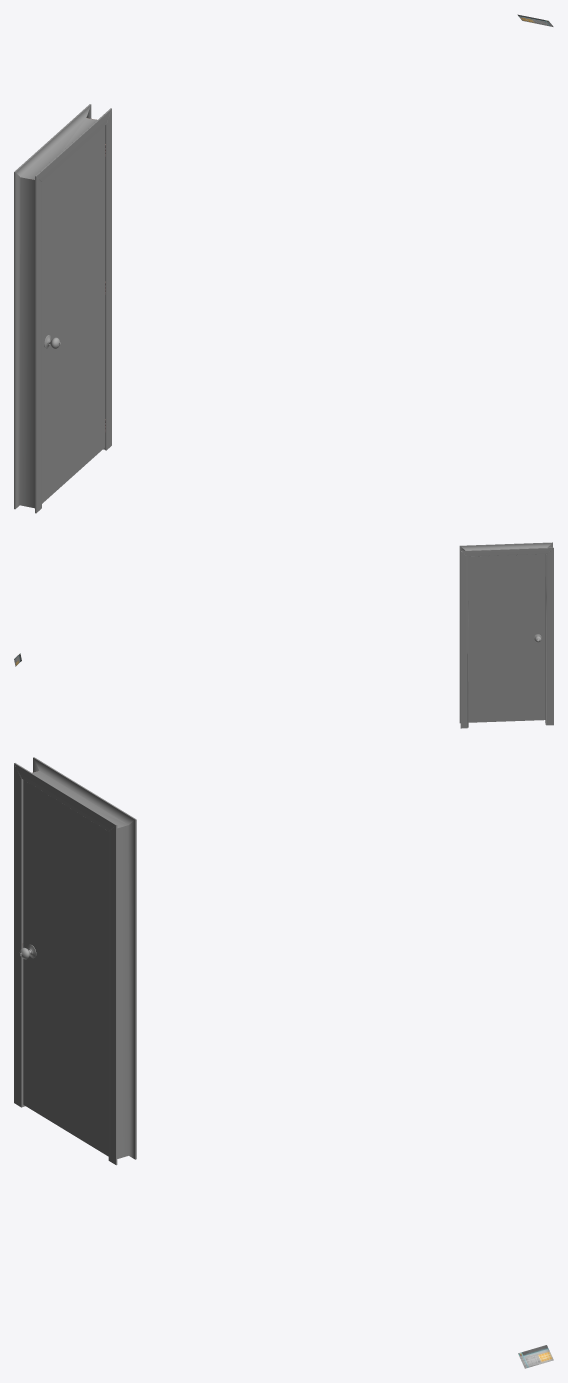
Rendered from Door.fbx.
3 views of the same model, one above another, from view 1: azimuth 30°, elevation 25°; view 2: azimuth 150°, elevation 25°; view 3: azimuth 270°, elevation 25° (orthographic). The views are drawn at different scales.
Parts seen in each view (by area): view 1: Cylinder.033, Cylinder.032; view 2: Cylinder.033, Cylinder.032; view 3: Cylinder.033, Cylinder.032.
Boxes of the visible parts, box(x1,y1,x2,y2) form: Cylinder.033: box(42, 126, 105, 503); Cylinder.032: box(14, 104, 111, 513); Cylinder.033: box(468, 554, 545, 722); Cylinder.032: box(459, 542, 553, 728); Cylinder.033: box(19, 780, 108, 1156); Cylinder.032: box(14, 757, 136, 1165).
Size of the model in its own units: 1666 by 686 by 987.
